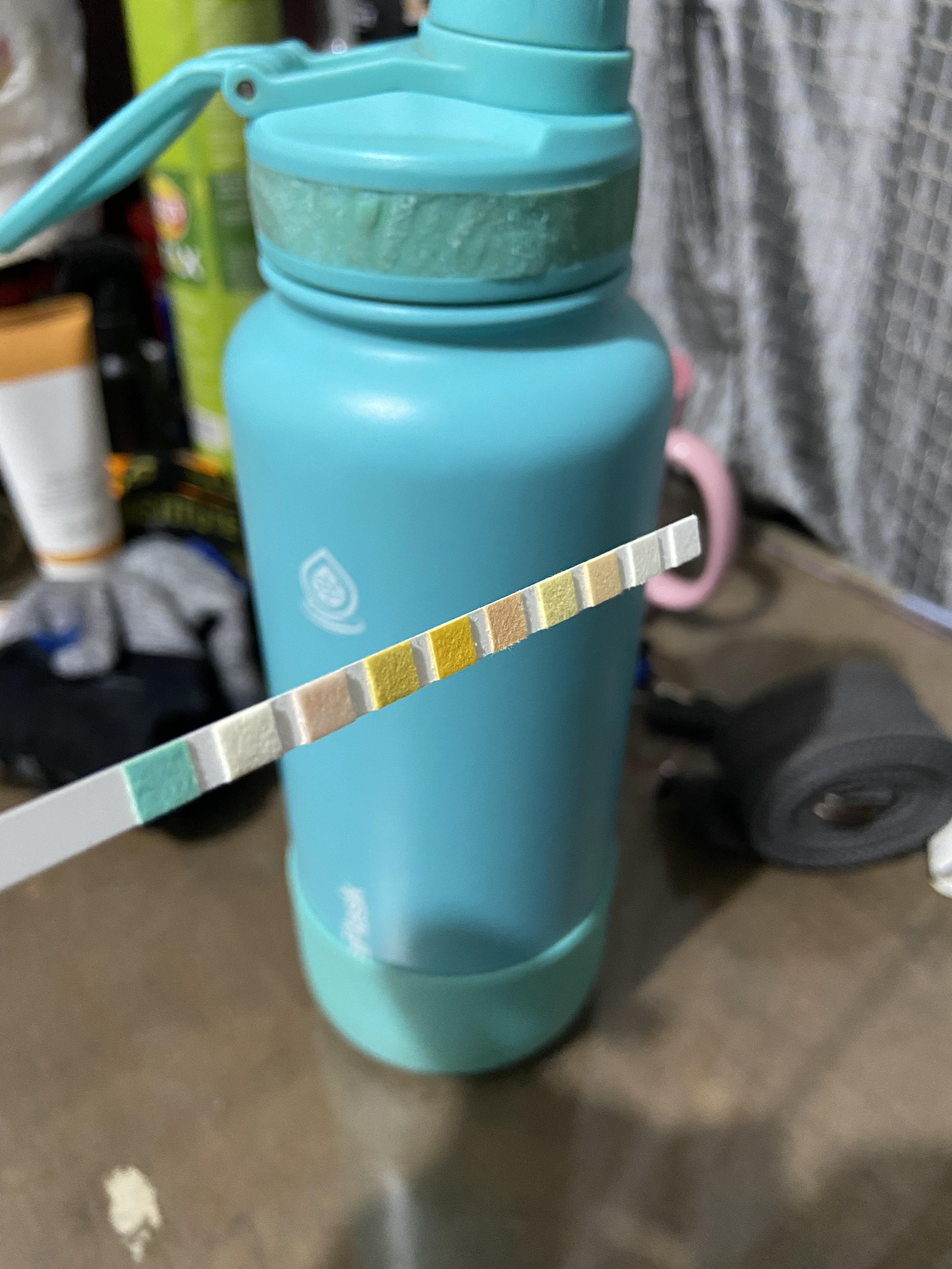Bilirubin: (234, 720, 274, 763)
Blood: (441, 629, 471, 666)
Glucose: (143, 758, 187, 804)
Ketone: (311, 686, 346, 724)
Leukocytes: (678, 525, 697, 557)
Nitrite: (638, 540, 657, 574)
Protein: (548, 581, 574, 616)
SpGravity: (380, 653, 410, 694)
Urobilinogen: (596, 561, 618, 596)
pH: (496, 602, 523, 640)
strip: (1, 515, 703, 894)
